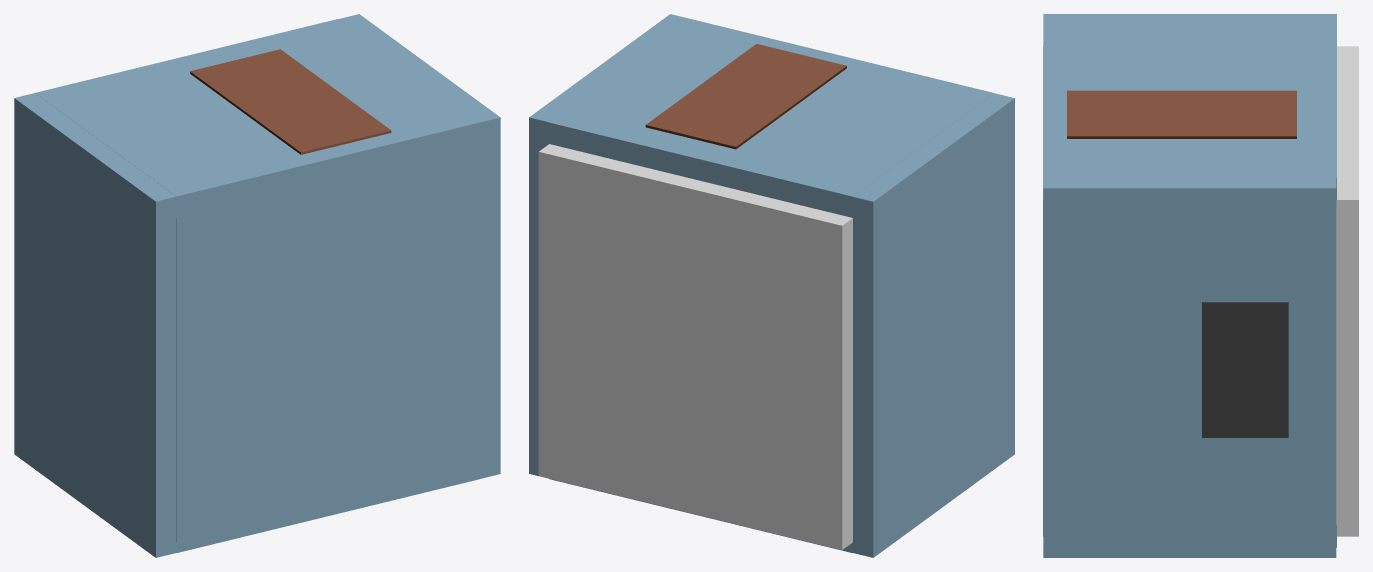
File: Quarto.fbx
The picture shows the model from 3 angles, left to right: view 1: azimuth 30°, elevation 25°; view 2: azimuth 150°, elevation 25°; view 3: azimuth 270°, elevation 25°; orthographic projection. The views are drawn at different scales.
Parts seen in each view (by area): view 1: Cube.013; view 2: Cube.013; view 3: Cube.013.
Part boxes in pixels (x1,y1,x2,y2): Cube.013: (14, 14, 500, 557); Cube.013: (529, 14, 1014, 557); Cube.013: (1043, 14, 1358, 557).
Bounding box in the file's own units: 667 × 664 × 510.
